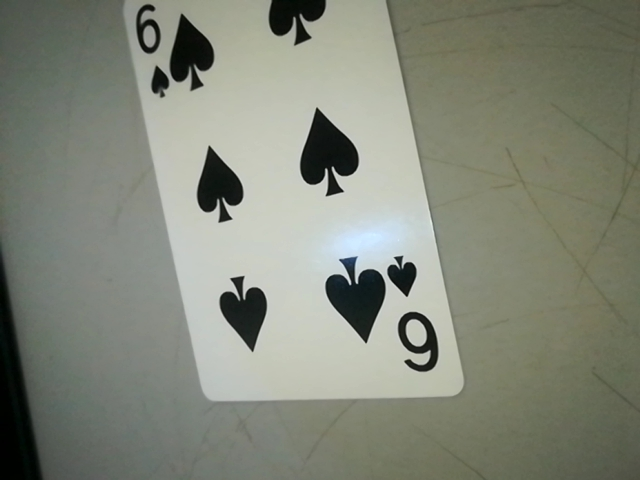ht 6: (382, 247, 448, 386)
